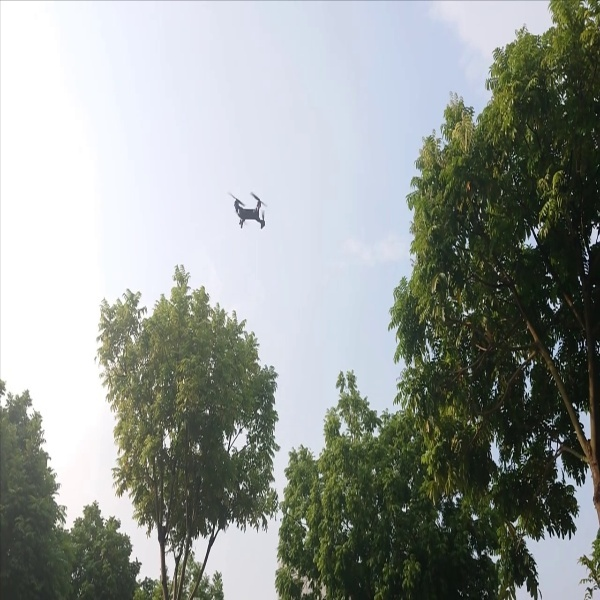drone: (226, 183, 277, 234)
